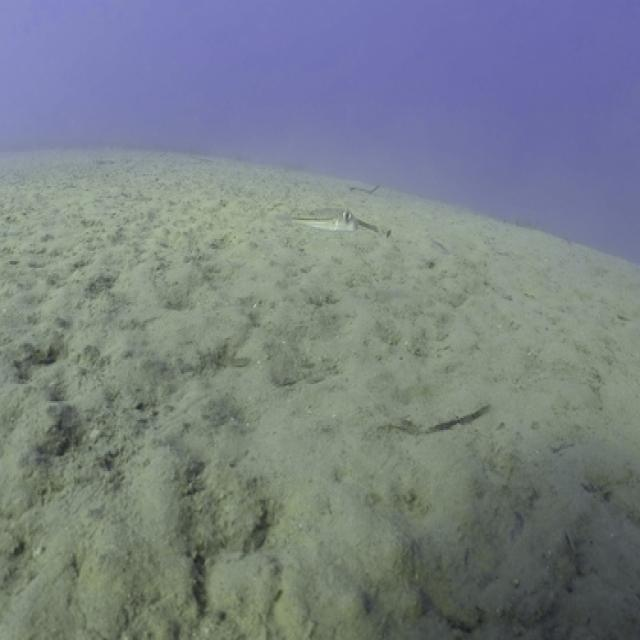Balik: (291, 208, 378, 230)
